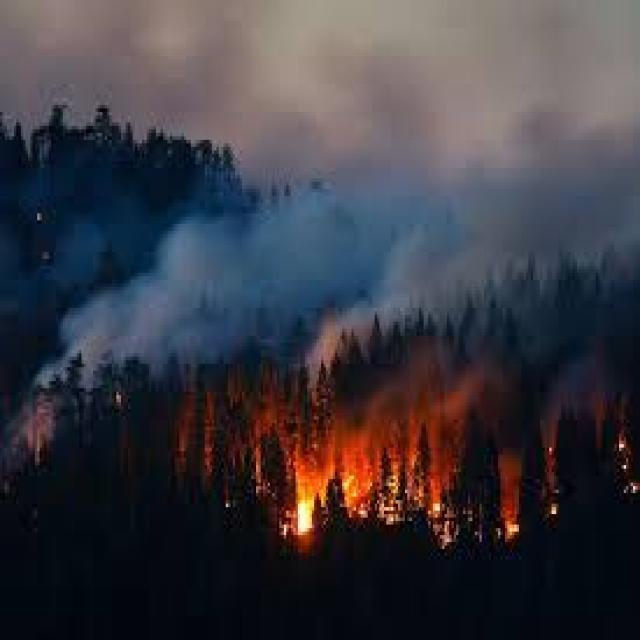Fire: (342, 466, 465, 542), (282, 469, 326, 538), (500, 500, 526, 546)
Smoke: (39, 187, 640, 399)
